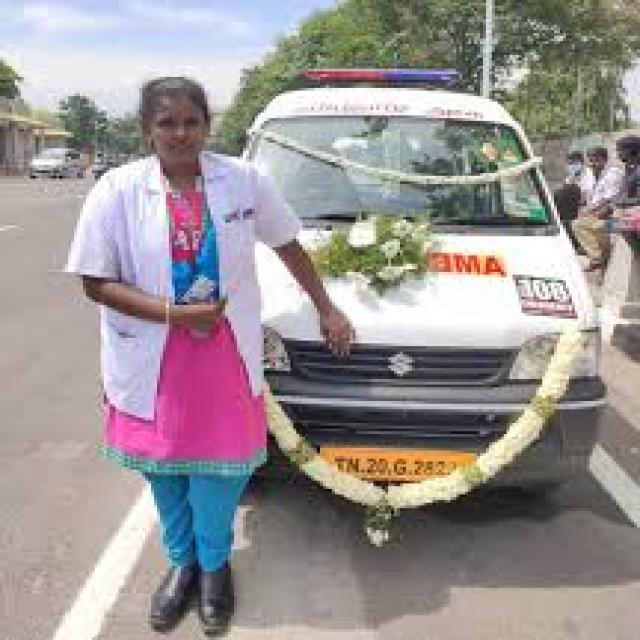ambulance: (239, 63, 611, 535)
